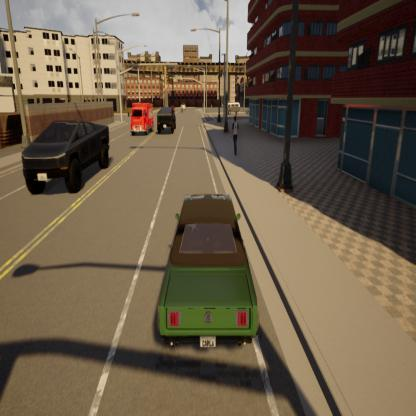Cars: (154, 186, 264, 358), (19, 118, 116, 202), (130, 100, 155, 140), (156, 105, 178, 140), (223, 100, 242, 117), (180, 101, 187, 113)
Pedestrian: (229, 115, 242, 160)
